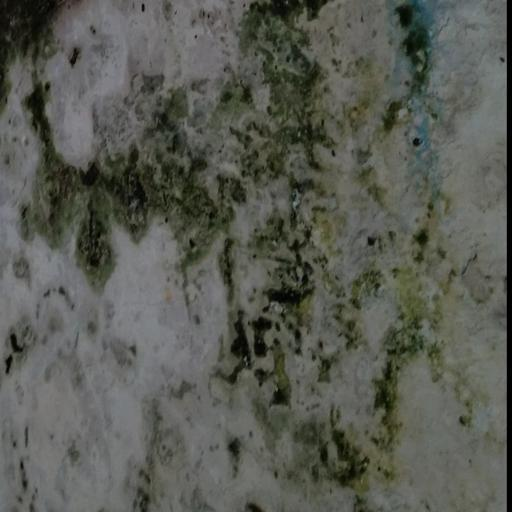algae: (9, 5, 486, 350)
